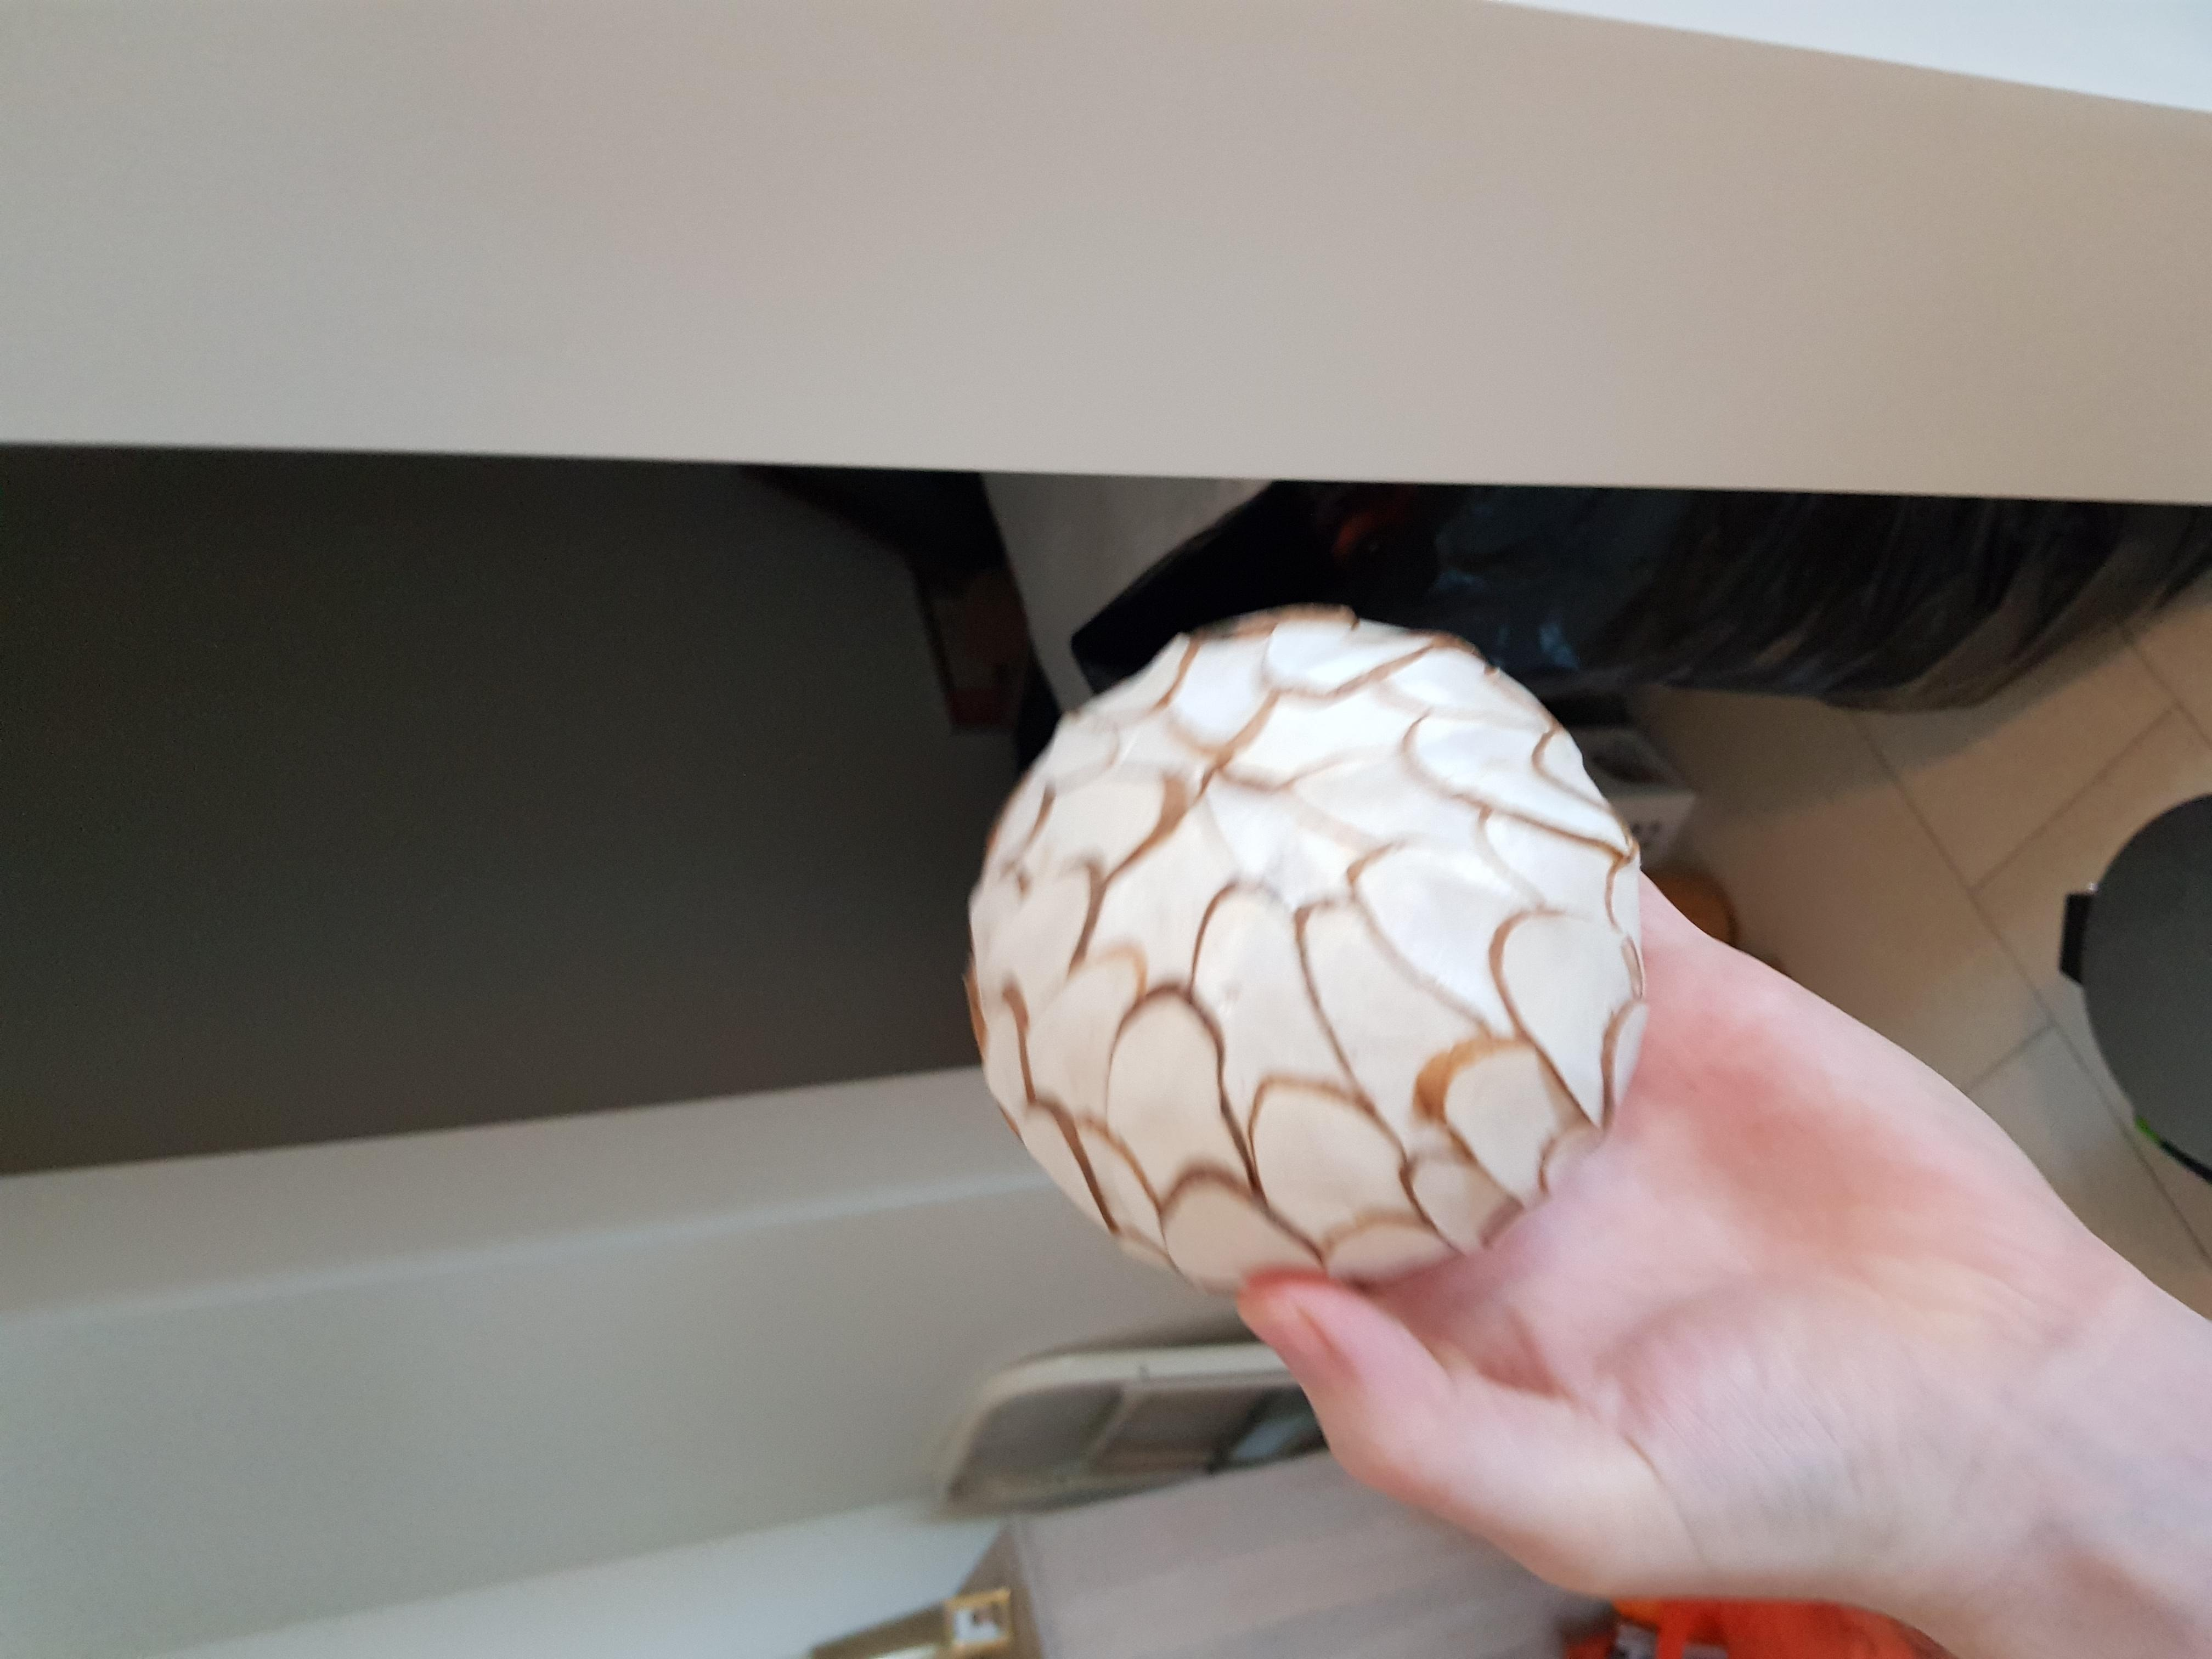sphere: (953, 620, 1648, 1300)
